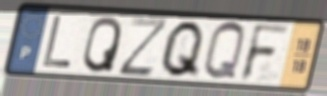F: (237, 22, 293, 84)
L: (40, 14, 74, 70)
Q: (158, 19, 207, 81), (201, 20, 247, 84), (81, 14, 125, 75)
Z: (115, 15, 171, 78)
